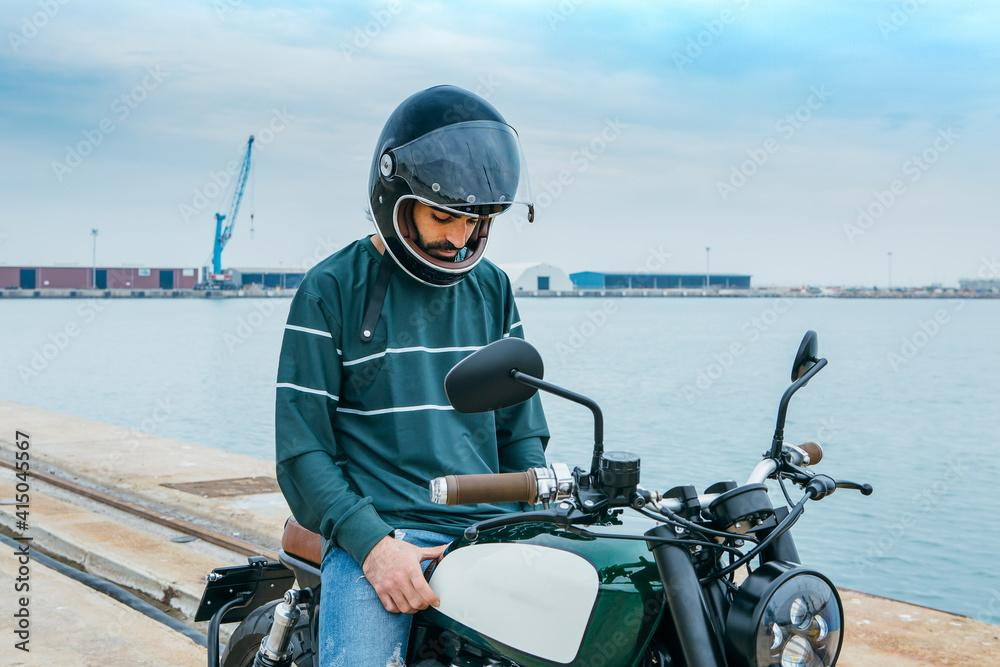helmet: (365, 83, 536, 290)
